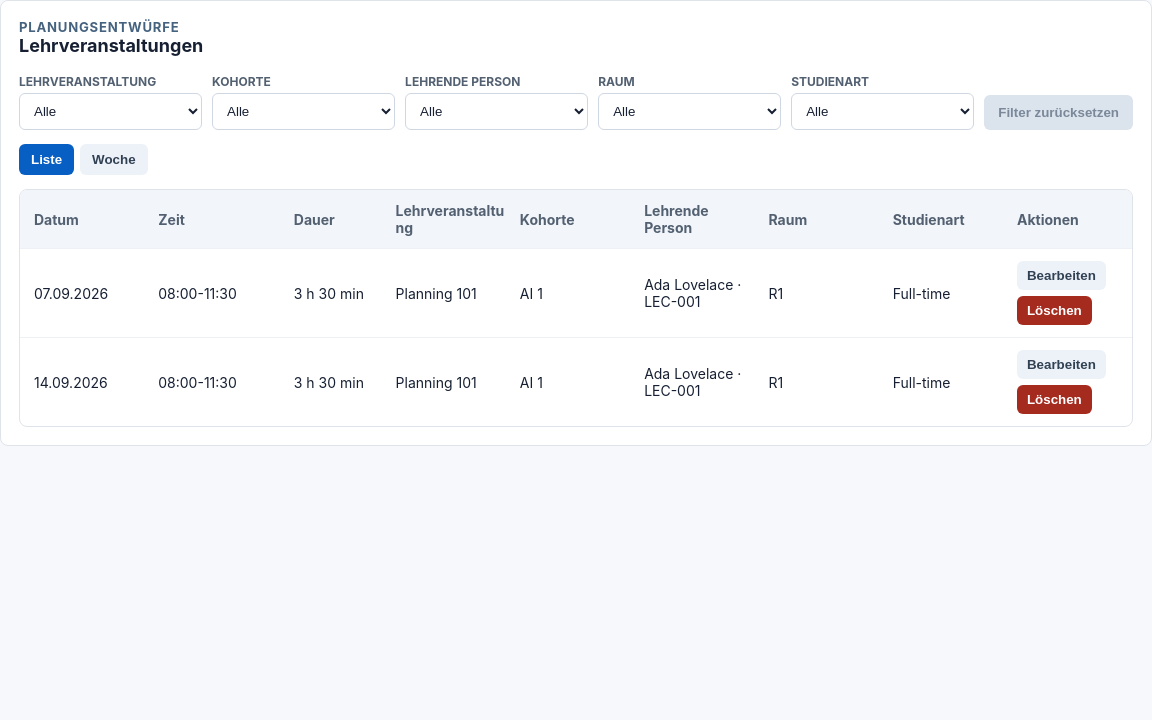
DraftSchedulePanel › switches between list and weekly review modes
Click the button "Woche": point(114, 160) 80,144 -> 148,175
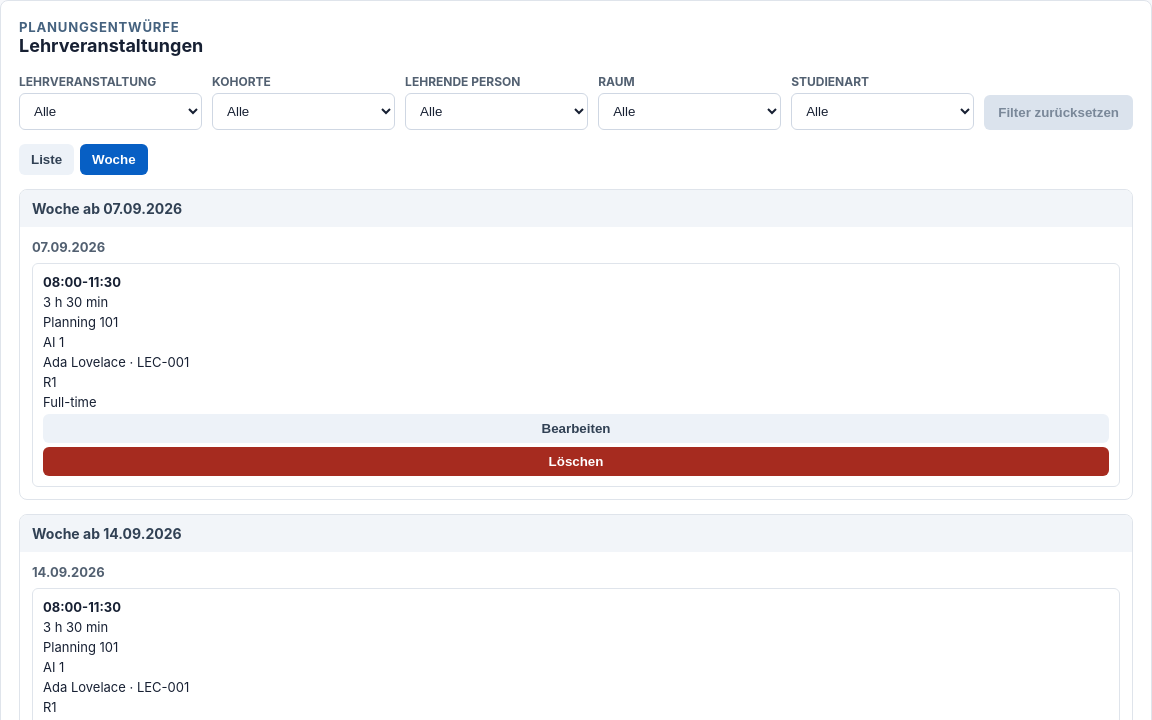
Check: the text "Woche ab 07.09.2026" is shown, box 20,190 -> 1132,227
Check: the text "Woche ab 14.09.2026" is shown, box 20,515 -> 1132,552
Click the button "Liste": point(47, 160) 19,144 -> 74,175
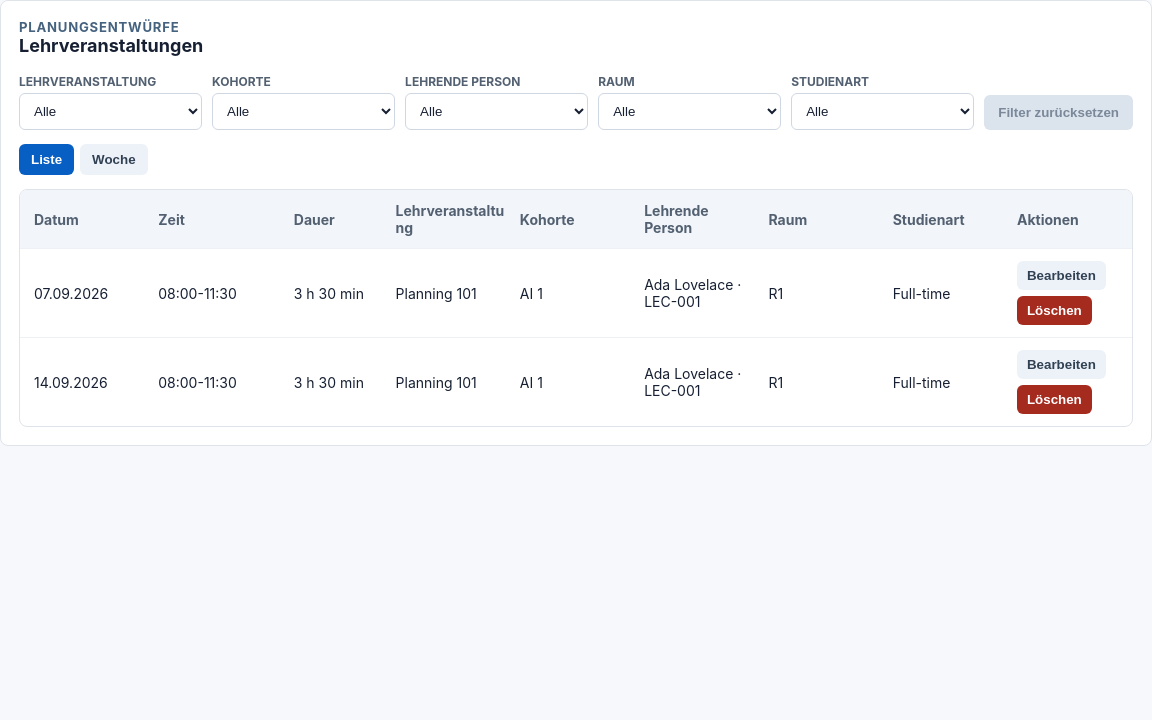
Check: the element with class "session-table" is shown, box 19,189 -> 1133,427
